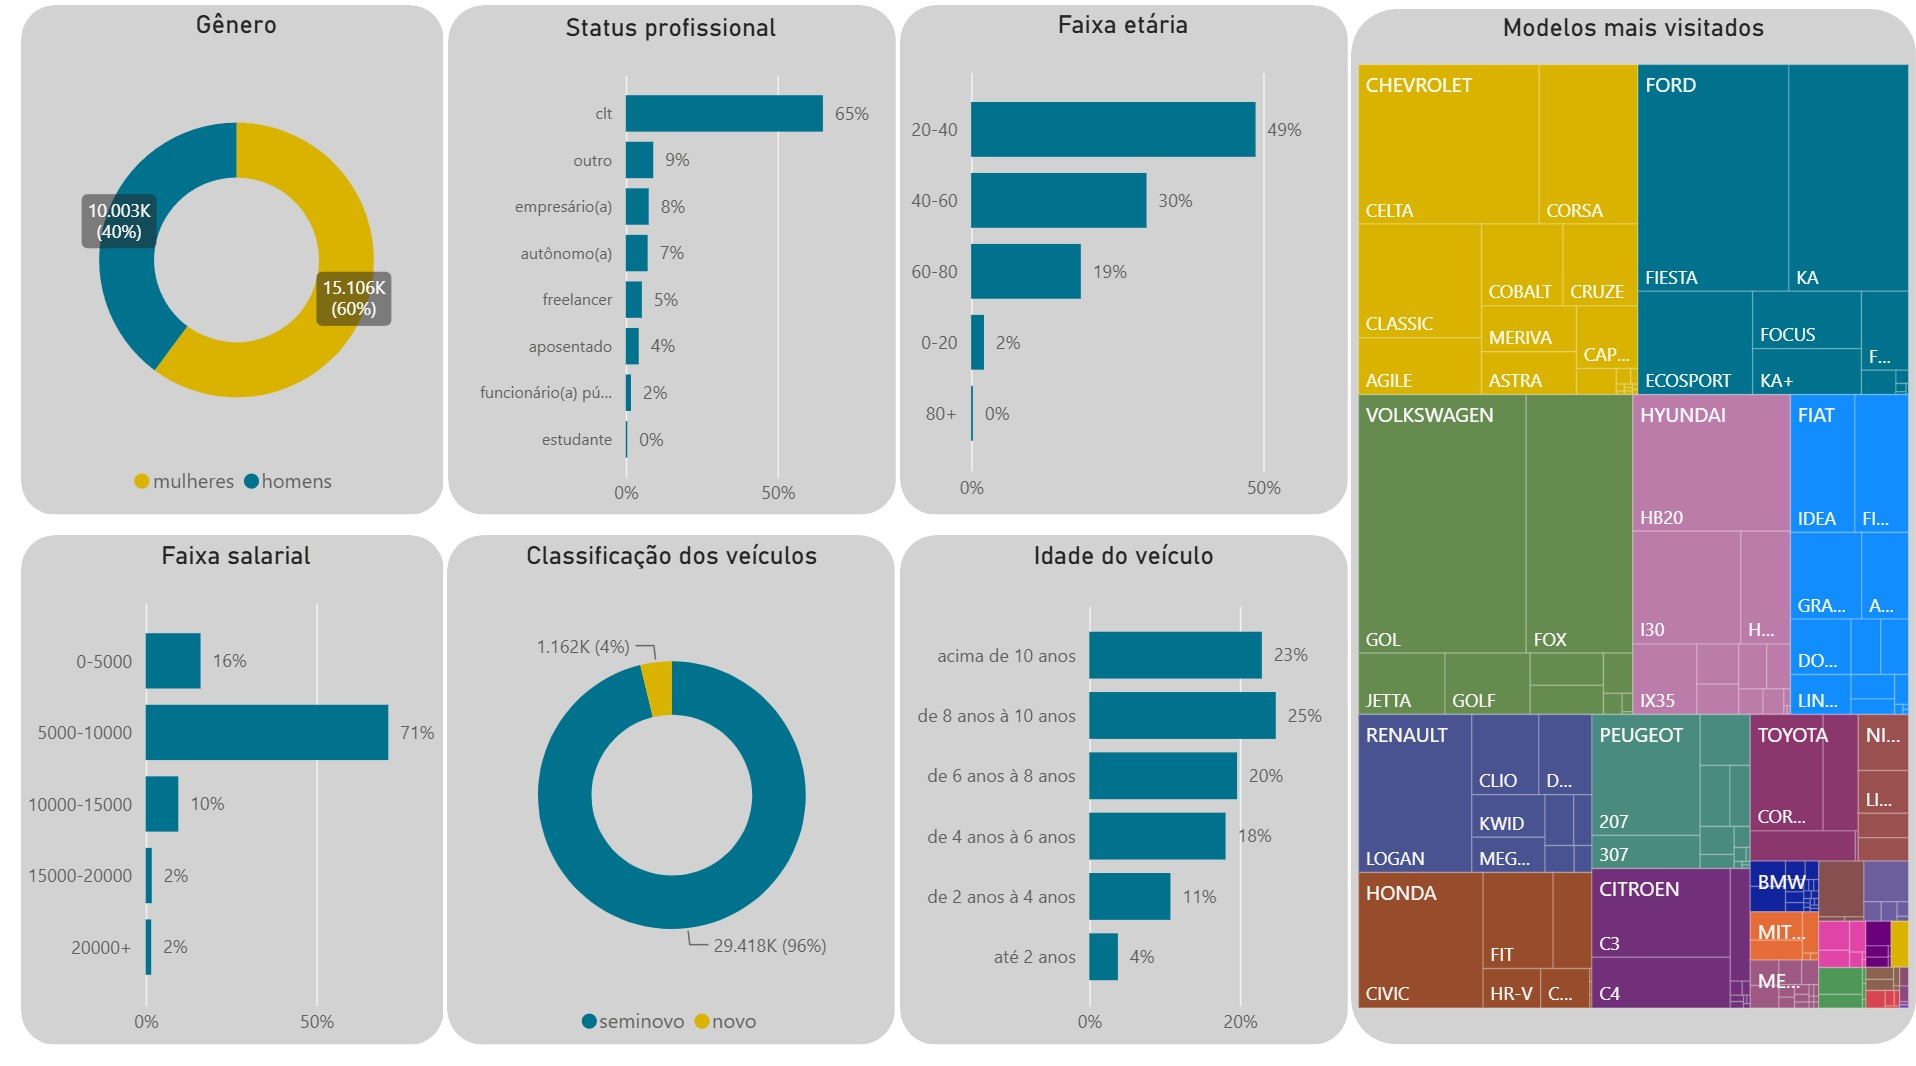

The dashboard page shown, as its layout file describes it:
{"tool":"powerbi","page":{"name":"Page 1","canvas":[1280,720],"ordinal":0},"visuals":[{"type":"shape","box":[903.8,10.3,376.2,689.2],"z":0},{"type":"shape","box":[18.4,360,281.4,339.5],"z":1000},{"type":"shape","box":[302,360,298.3,339.5],"z":2000},{"type":"shape","box":[604,360,298.3,339.5],"z":3000},{"type":"shape","box":[603.9,7.3,298.3,339.5],"z":4000},{"type":"shape","box":[302.9,7.3,298.3,339.5],"z":5000},{"type":"shape","box":[18.4,7.3,281.4,339.5],"z":6000},{"type":"donutChart","title":"Gênero","fields":{"Category":["Gênero dos leads.gênero"],"Y":["Sum(Gênero dos leads.leads (#))"]},"box":[0,10,324.2,333.5],"z":7000},{"type":"donutChart","title":"Classificação dos veículos","fields":{"Category":["Classificação dos veículos.classificação do veículo"],"Y":["Sum(Classificação dos veículos.Veículos visitados (#))"]},"box":[302.7,363.7,298,339],"z":8000},{"type":"barChart","title":"Faixa salarial","fields":{"Category":["Faixa salarial dos leads.faixa salarial"],"Y":["Sum(Faixa salarial dos leads.leads (%))"]},"box":[12.5,363.7,298.3,338.7],"z":9000},{"type":"barChart","title":"Status profissional","fields":{"Category":["Status profissional dos leads.status profissional"],"Y":["Sum(Status profissional dos leads.leads (%))"]},"box":[302.2,12,298.2,333.5],"z":10000},{"type":"barChart","title":"Faixa etária","fields":{"Category":["Faixa etária dos leads.faixa etária"],"Y":["Sum(Faixa etária dos leads.leads (%))"]},"box":[603.1,10.3,298.3,336.5],"z":11000},{"type":"barChart","title":"Idade do veículo","fields":{"Category":["Idade dos veículos.idade do veículo"],"Y":["Sum(Idade dos veículos.Veículos visitados (%))"]},"box":[604,363.7,298,339],"z":12000},{"type":"treemap","title":"Modelos mais visitados","fields":{"Details":["Veículos mais visitados por marca.model"],"Group":["Veículos mais visitados por marca.brand"],"Values":["Sum(Veículos mais visitados por marca.visitas (#))"]},"box":[903.8,11.8,376.2,667.9],"z":13000}]}

Visuals, with their boxes in screenshot pixels (x1, y1, x2, y2), scaled from the page's 1280x720 canvas onto the 1916x1066 screenshot:
shape: [1353,15,1915,1036]
shape: [28,533,449,1036]
shape: [452,533,899,1036]
shape: [904,533,1351,1036]
shape: [904,11,1350,513]
shape: [453,11,900,513]
shape: [28,11,449,513]
"Gênero" donutChart: [0,15,485,509]
"Classificação dos veículos" donutChart: [453,538,899,1040]
"Faixa salarial" barChart: [19,538,465,1040]
"Status profissional" barChart: [452,18,899,512]
"Faixa etária" barChart: [903,15,1349,513]
"Idade do veículo" barChart: [904,538,1350,1040]
"Modelos mais visitados" treemap: [1353,17,1915,1006]
